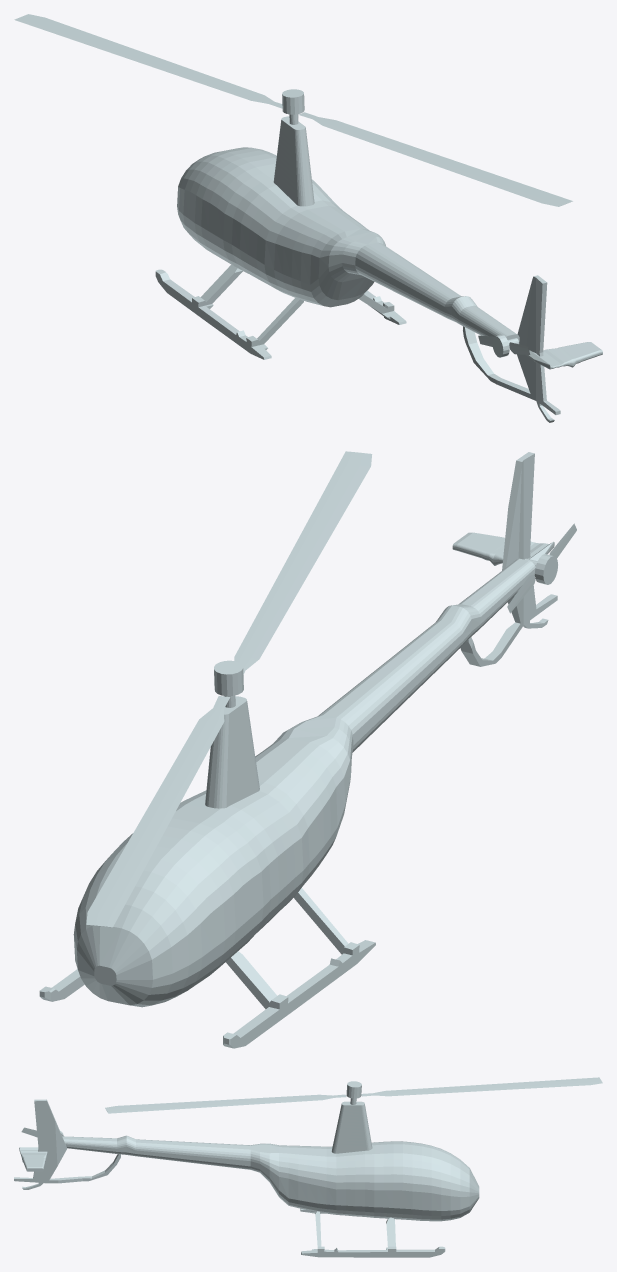
The picture shows the model from 3 angles, top to bottom: view 1: azimuth 30°, elevation 25°; view 2: azimuth 150°, elevation 25°; view 3: azimuth 270°, elevation 25°; orthographic projection. The views are drawn at different scales.
Parts seen in each view (by area): view 1: Aircraft visual hull, Rotor 1789714259815-i9uvmmxjdc, Rotor 1789714595633-v0ibyizmryr; view 2: Aircraft visual hull, Rotor 1789714259815-i9uvmmxjdc, Rotor 1789714595633-v0ibyizmryr; view 3: Aircraft visual hull, Rotor 1789714259815-i9uvmmxjdc.
Boxes of the visible parts, x1=… form: Aircraft visual hull: x1=155, y1=116, x2=602, y2=422; Rotor 1789714259815-i9uvmmxjdc: x1=14, y1=14, x2=572, y2=206; Rotor 1789714595633-v0ibyizmryr: x1=478, y1=334, x2=530, y2=357; Aircraft visual hull: x1=39, y1=452, x2=557, y2=1048; Rotor 1789714259815-i9uvmmxjdc: x1=86, y1=451, x2=372, y2=927; Rotor 1789714595633-v0ibyizmryr: x1=507, y1=523, x2=576, y2=613; Aircraft visual hull: x1=14, y1=1099, x2=479, y2=1257; Rotor 1789714259815-i9uvmmxjdc: x1=105, y1=1077, x2=602, y2=1113.
Bounding box in the file's own units: 3.02 × 3.41 × 11.92.
